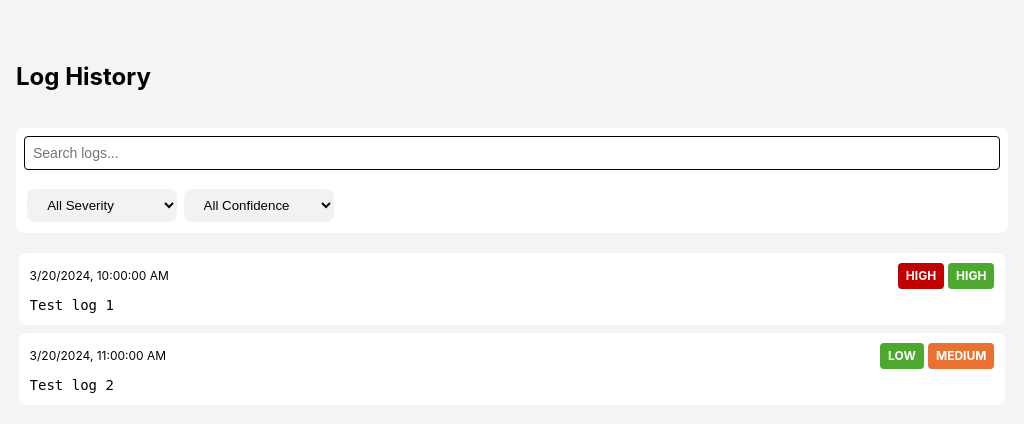
LogHistory › filters logs based on severity
Select "High" in the 1st dropdown showing "All Severity" at (102, 206), box x1=27 y1=189 x2=177 y2=222
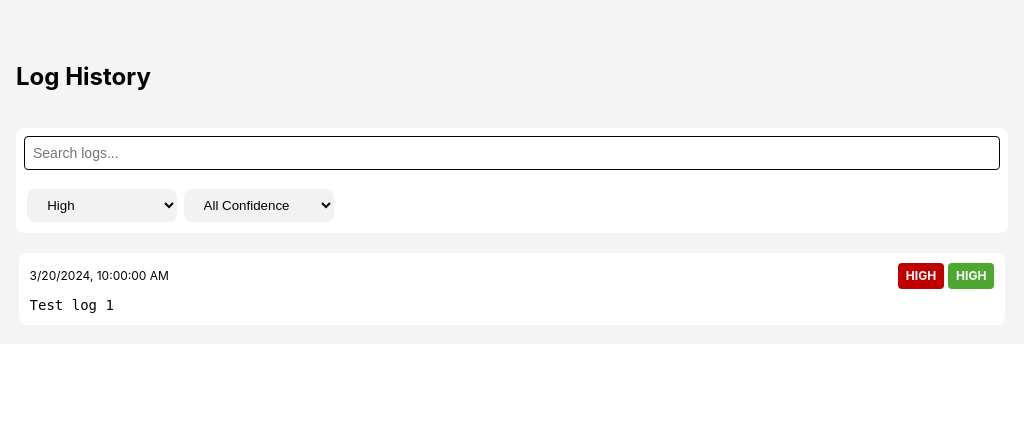
Expected: the text "Test log 1" is shown, x1=30 y1=297 x2=114 y2=313
Result: the text "Test log 2" is gone
